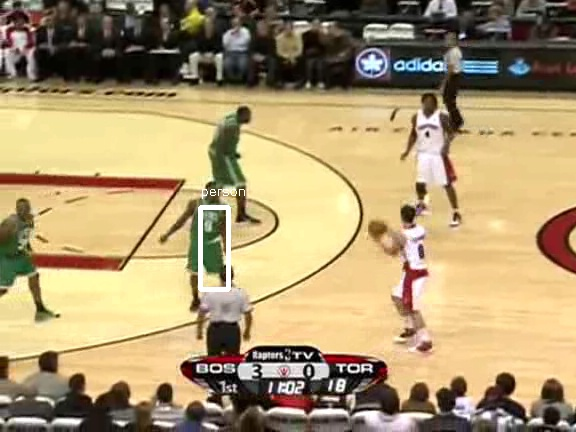person: (191, 193, 225, 274), (190, 193, 224, 274), (192, 193, 226, 274), (191, 192, 225, 273), (191, 194, 225, 275)
target_negative: (322, 145, 560, 408), (259, 187, 467, 367), (122, 321, 445, 411), (143, 332, 212, 426), (512, 190, 530, 333), (397, 92, 466, 105)
